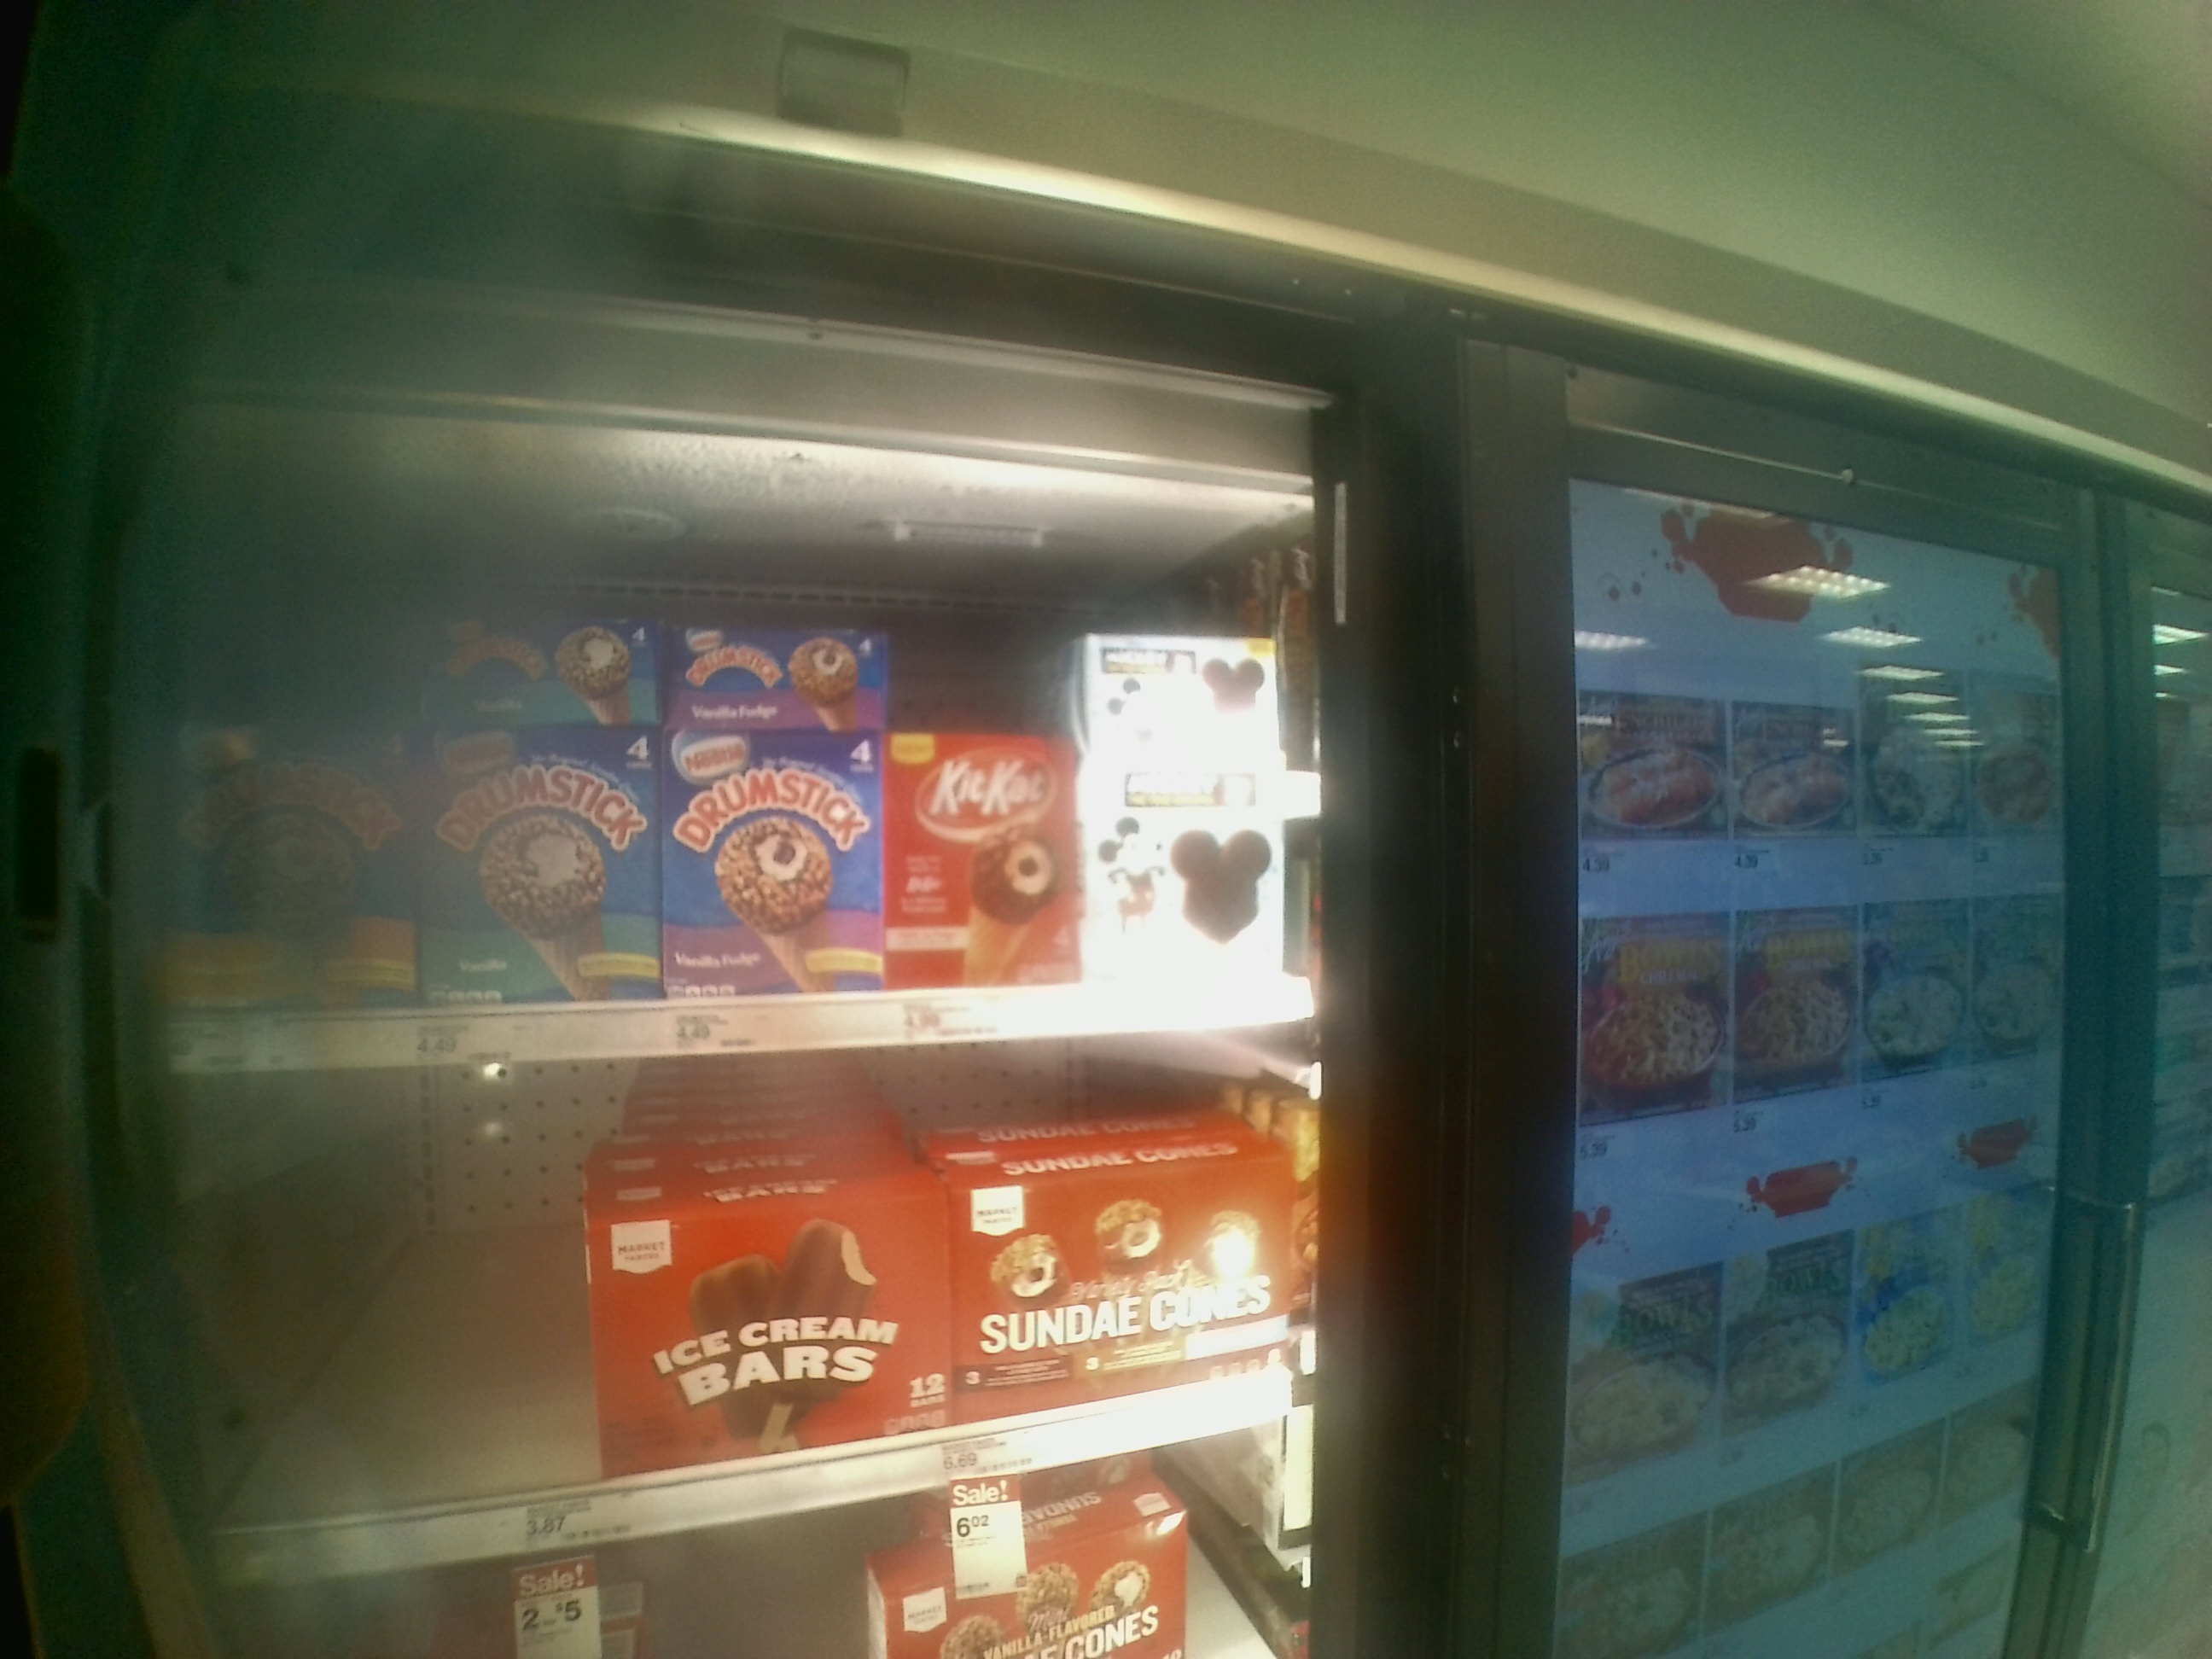shelf: (171, 1018, 1322, 1598), (148, 502, 1320, 1065)
